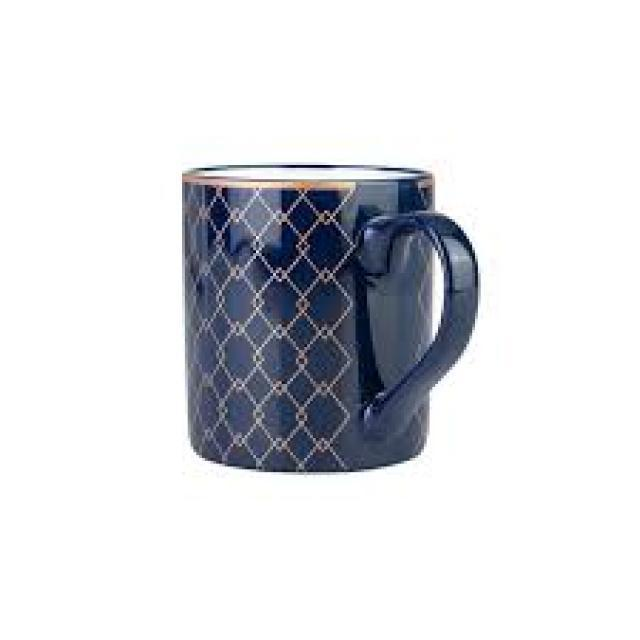taza: (182, 160, 483, 475)
